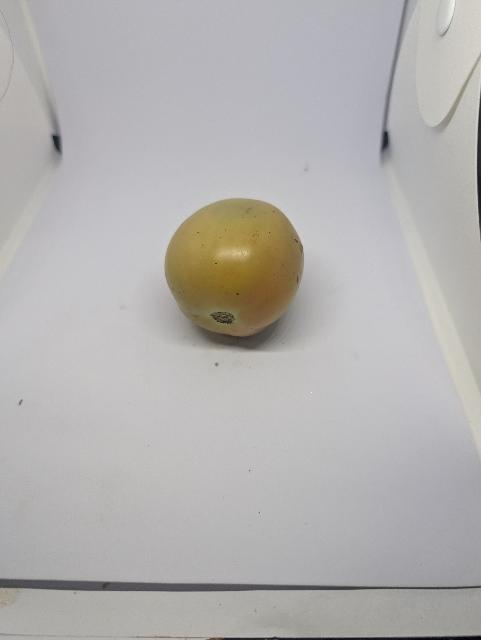breaker: (161, 193, 315, 340)
